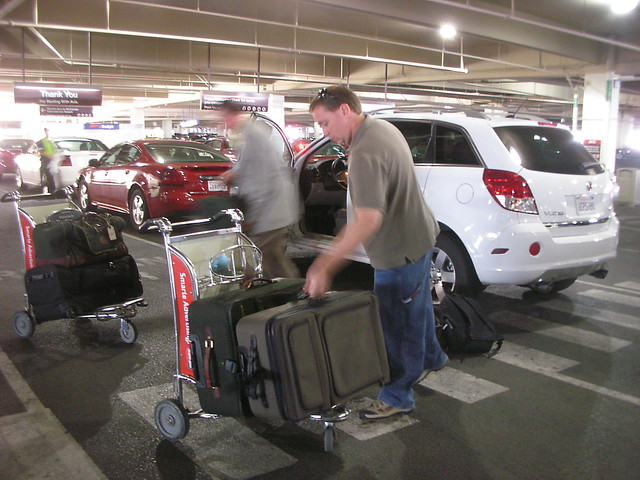car: (259, 112, 619, 306), (75, 140, 235, 230), (15, 136, 111, 196), (1, 139, 36, 177)
